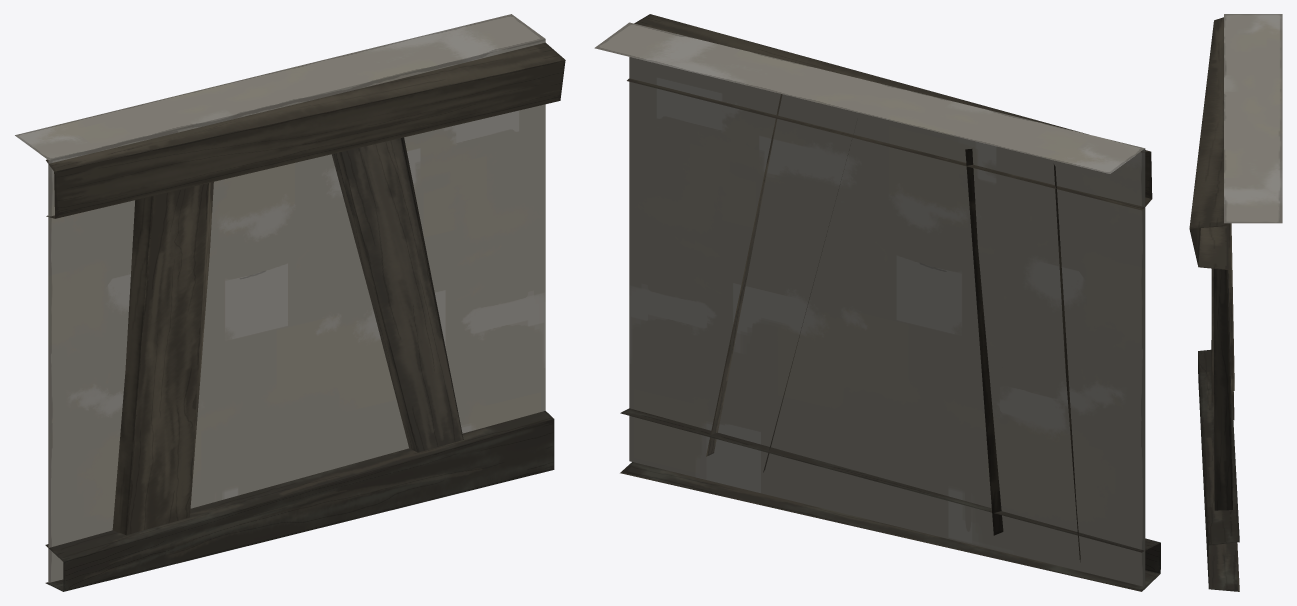
Rendered from cons_wall_outer_clean.fbx.
The picture shows the model from 3 angles, left to right: view 1: azimuth 30°, elevation 25°; view 2: azimuth 150°, elevation 25°; view 3: azimuth 270°, elevation 25°; orthographic projection. The views are drawn at different scales.
Parts seen in each view (by area): view 1: cons_wall_outer_clean01; view 2: cons_wall_outer_clean01; view 3: cons_wall_outer_clean01.
Boxes of the visible parts, left/top/right/bottom form: cons_wall_outer_clean01: left=15, top=14, right=565, bottom=591; cons_wall_outer_clean01: left=594, top=14, right=1160, bottom=591; cons_wall_outer_clean01: left=1189, top=14, right=1282, bottom=591.
Size of the model in its own units: 300 by 247 by 56.39.
